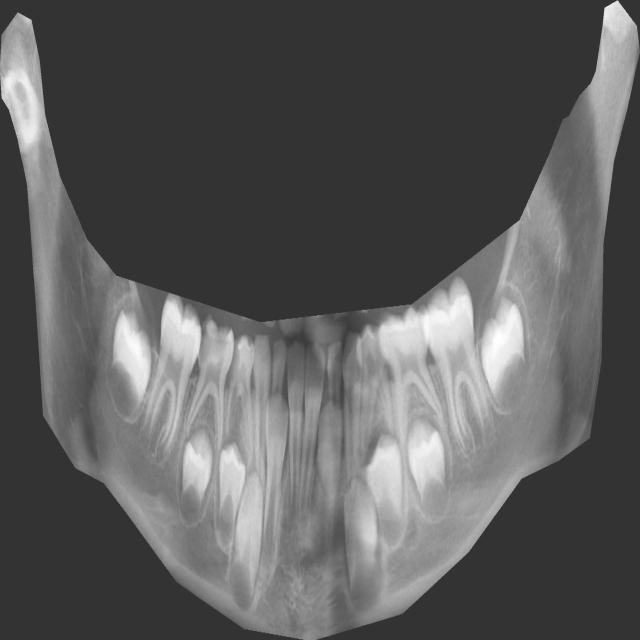mandibula: (0, 0, 640, 640)
